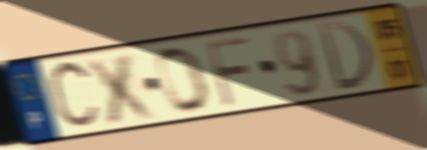9: (273, 27, 324, 98)
C: (45, 56, 103, 135)
D: (315, 19, 375, 94)
F: (202, 34, 255, 110)
O: (155, 44, 212, 116)
X: (82, 49, 162, 127)
